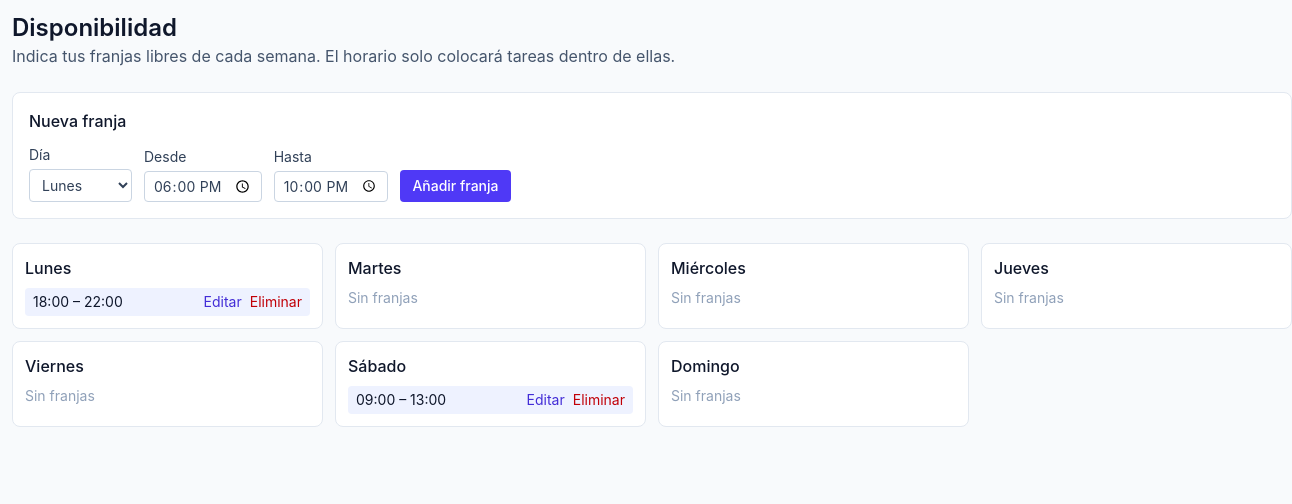
AvailabilityPage (US2) › muestra el error de solape que devuelve la API
Expected: the element "Lunes" is shown, x1=12 y1=243 x2=323 y2=329
Select "Lunes" in the dropdown labelled "Día" at (80, 186), box x1=29 y1=169 x2=132 y2=202
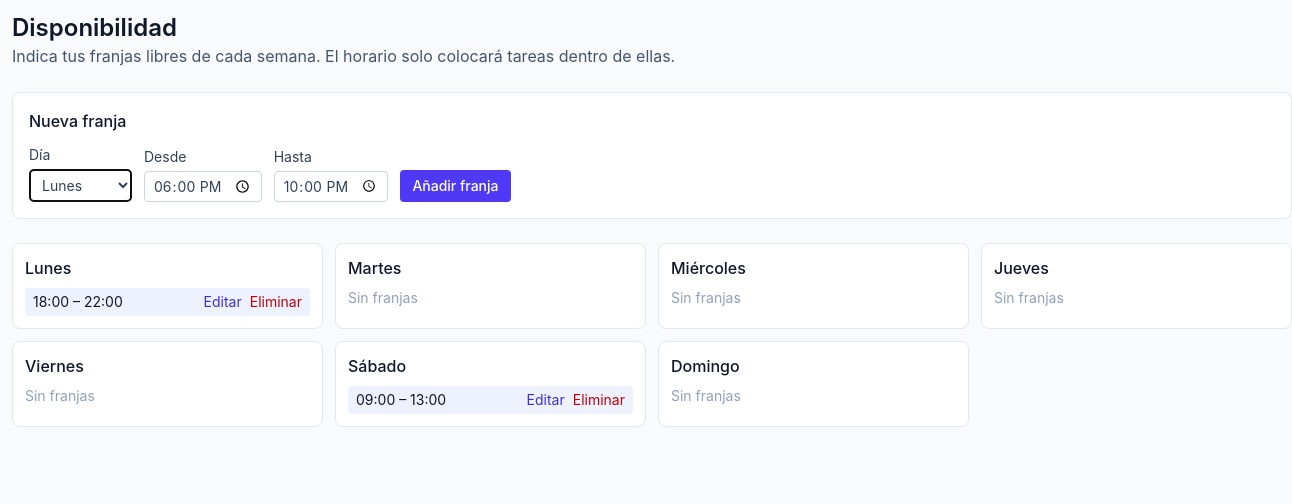
Clear the time field labelled "Desde" at (203, 187), box x1=144 y1=171 x2=262 y2=202
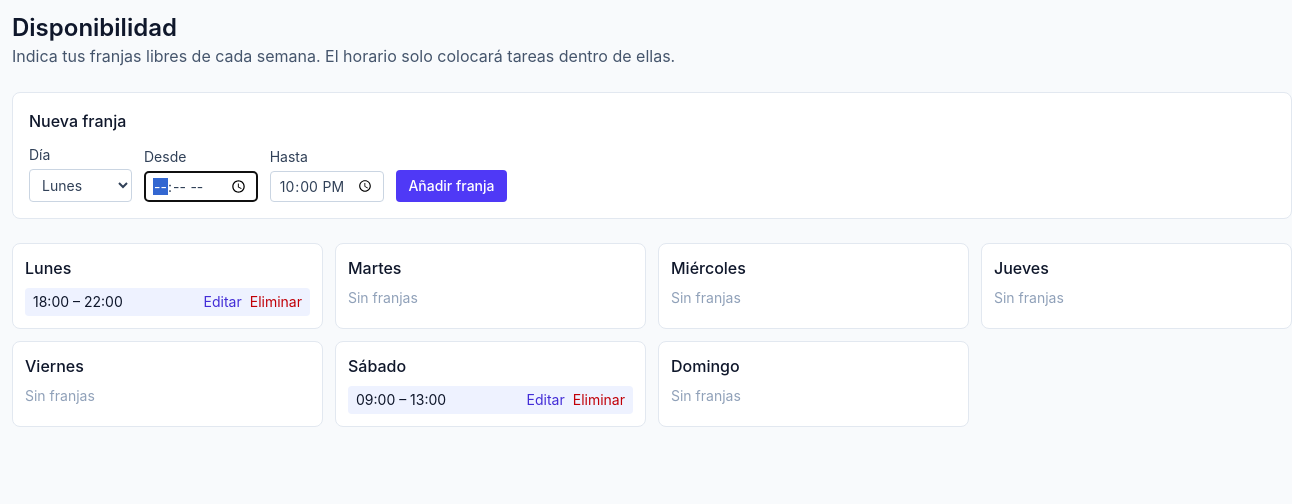
Type "21:00" into the time field labelled "Desde".
click(201, 187); type("21:00")  # box x1=144 y1=171 x2=258 y2=202
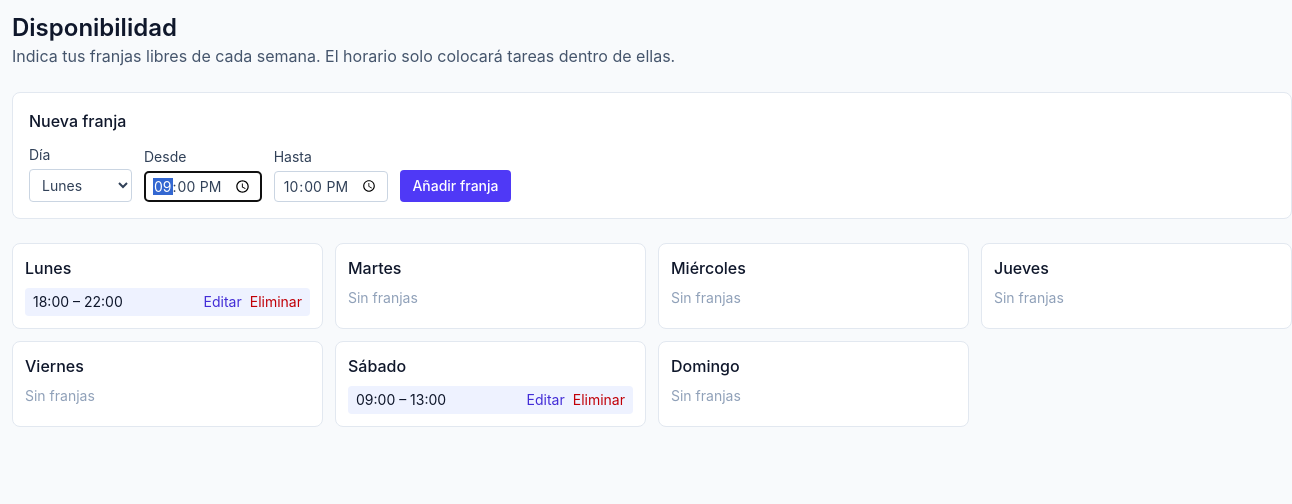
Clear the time field labelled "Hasta" at (331, 187), box x1=274 y1=171 x2=388 y2=202
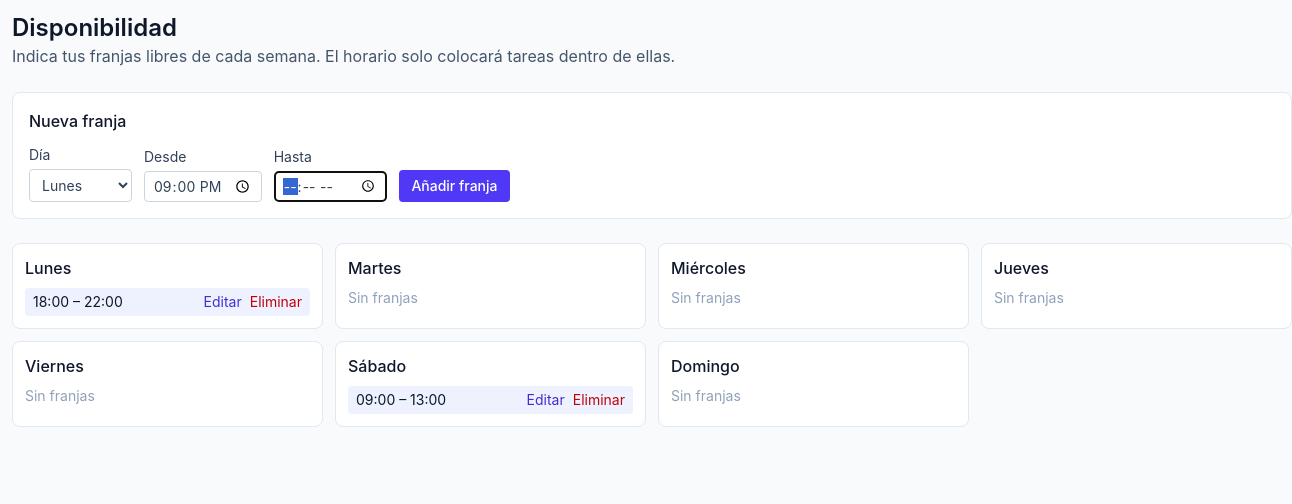
Type "23:00" into the time field labelled "Hasta".
click(331, 187); type("23:00")  # box x1=274 y1=171 x2=387 y2=202
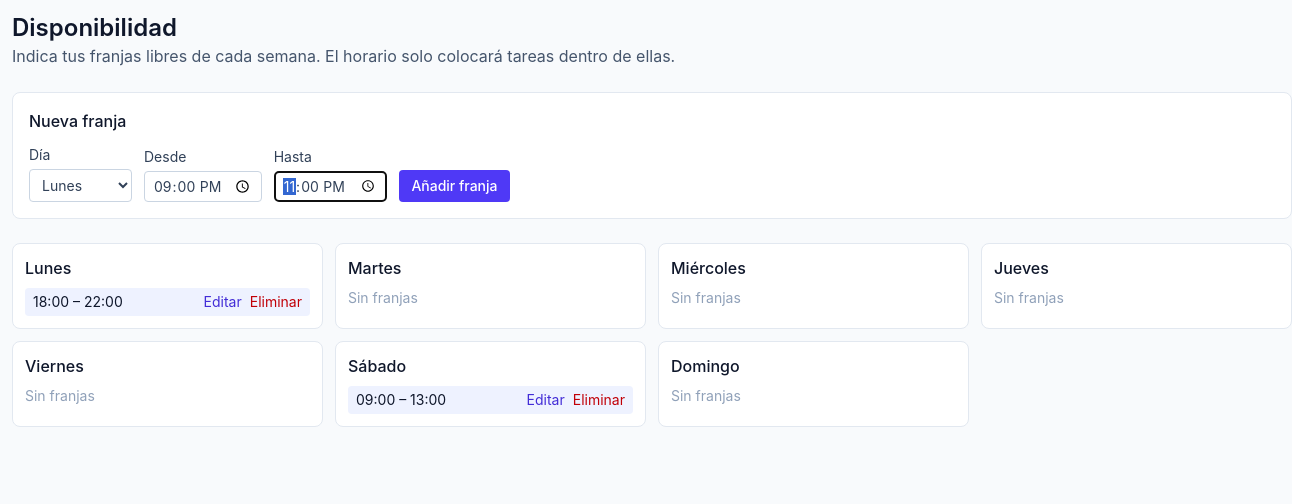
Click the button "Añadir franja".
click(454, 186)  # box x1=399 y1=170 x2=510 y2=202
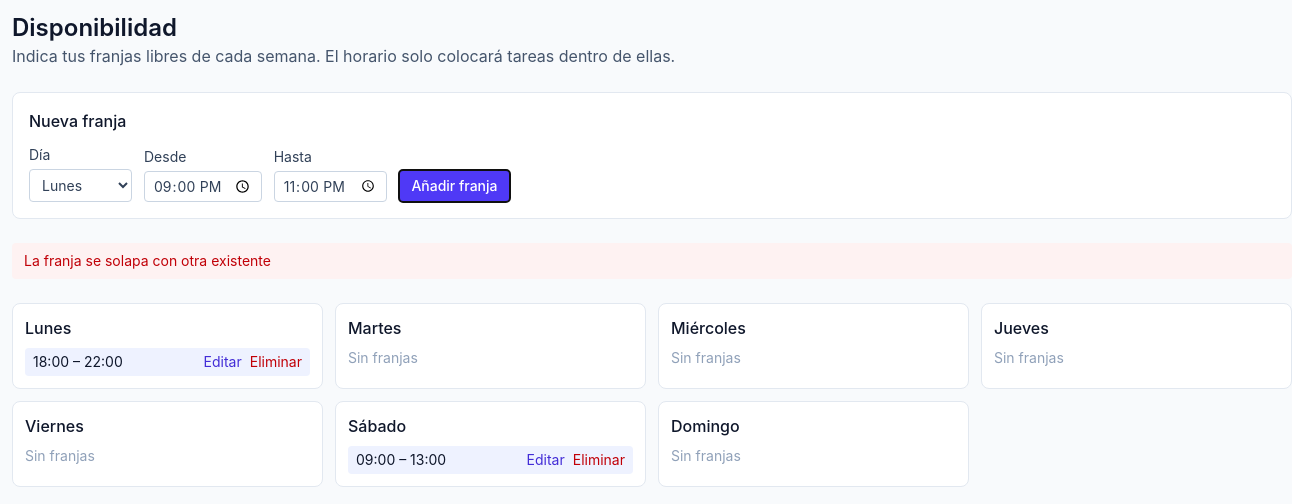
Result: the message reads "La franja se solapa con otra existente" at x1=24 y1=252 x2=271 y2=269
